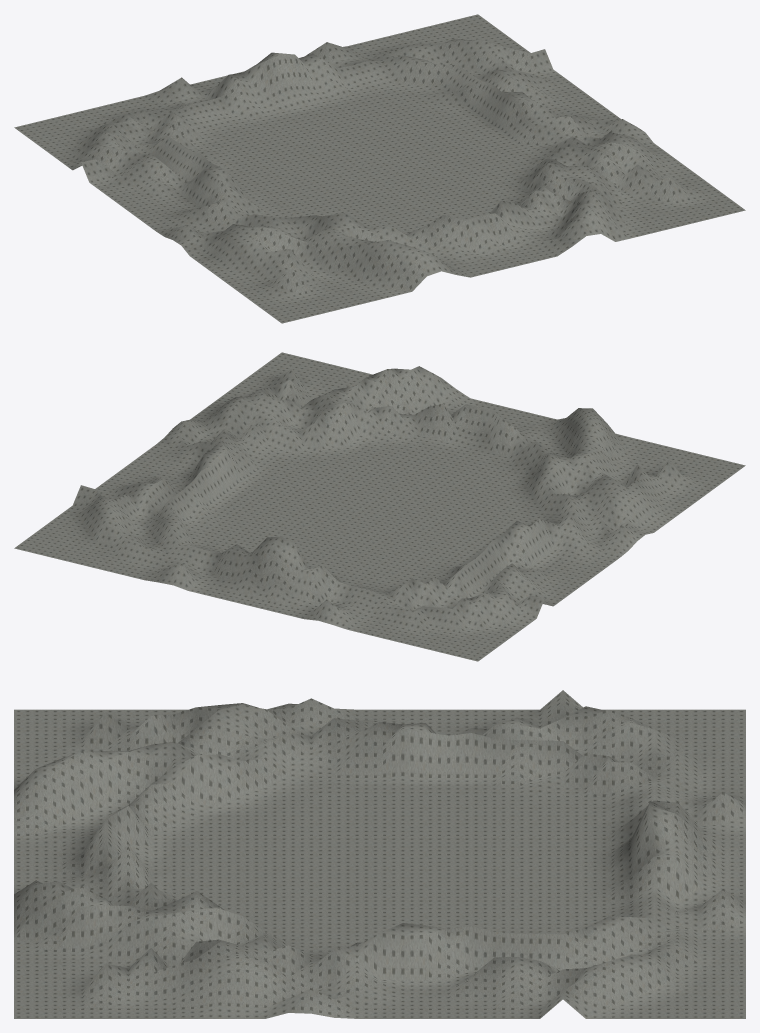
The model's file is landscape.obj.
The picture shows the model from 3 angles, top to bottom: view 1: azimuth 30°, elevation 25°; view 2: azimuth 150°, elevation 25°; view 3: azimuth 270°, elevation 25°; orthographic projection. The views are drawn at different scales.
Visible parts, largest first — view 1: Plane; view 2: Plane; view 3: Plane.
Part boxes in pixels (x1,y1,x2,y2): Plane: [14, 14, 745, 323]; Plane: [14, 352, 745, 661]; Plane: [14, 690, 745, 1018].
Bounding box in the file's own units: 246 × 21.6 × 246.
1 material, 1 textured.
